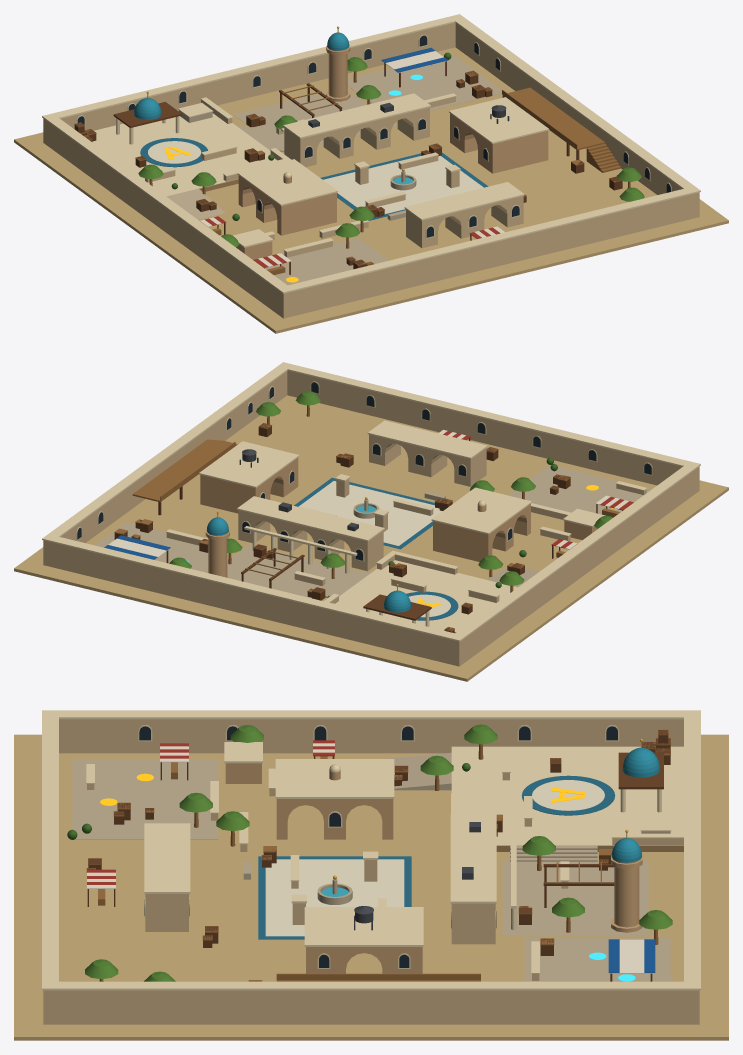
Rendered from wingman_oasis_large.glb.
3 renders of one model, top to bottom at view 1: azimuth 30°, elevation 25°; view 2: azimuth 150°, elevation 25°; view 3: azimuth 270°, elevation 25°, orthographic. The views are drawn at different scales.
Visible parts, largest first — view 1: Wingman_Oasis_A; view 2: Wingman_Oasis_A; view 3: Wingman_Oasis_A.
Boxes of the visible parts, x1,y1,x2,y2 form: Wingman_Oasis_A: [14, 14, 728, 333]; Wingman_Oasis_A: [14, 362, 728, 681]; Wingman_Oasis_A: [14, 710, 728, 1040].
Bounding box in the file's own units: 98 × 15.12 × 98.
